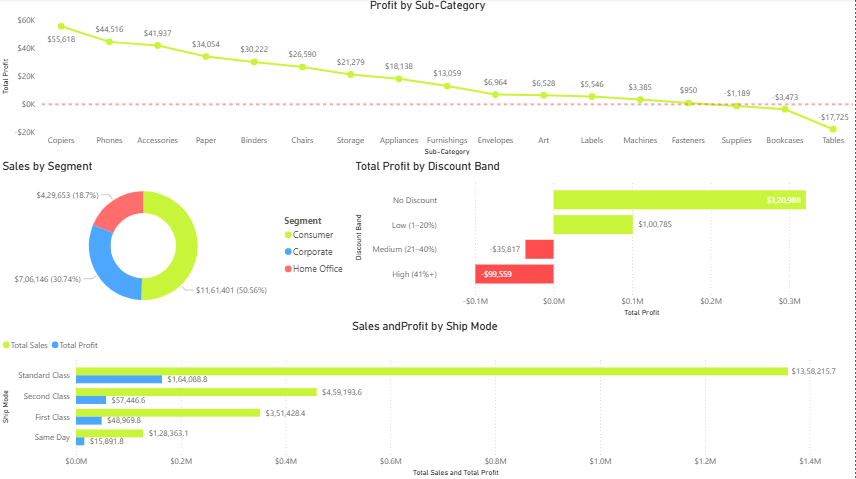

What the dashboard file says about the page in this screenshot:
{"tool":"powerbi","page":{"name":"Deep Dive","canvas":[1280,720],"ordinal":1},"visuals":[{"type":"lineChart","title":"Profit by Sub-Category","fields":{"Category":["superstore_cleaned.Sub-Category"],"Y":["superstore_cleaned.Total Profit"]},"box":[0,0,1280,240],"z":0},{"type":"donutChart","title":"Sales by Segment","fields":{"Category":["superstore_cleaned.Segment"],"Y":["superstore_cleaned.Total Sales"]},"box":[0,240,528,240],"z":1000},{"type":"clusteredBarChart","fields":{"Category":["superstore_cleaned.Discount Band"],"Y":["superstore_cleaned.Total Profit"]},"box":[528,240,752,240],"z":2000},{"type":"clusteredBarChart","title":"Sales and Profit by Ship Mode","fields":{"Category":["superstore_cleaned.Ship Mode"],"Y":["superstore_cleaned.Total Sales","superstore_cleaned.Total Profit"]},"box":[0,480,1272,240],"z":3000}]}

Visuals, with their boxes in screenshot pixels (x1, y1, x2, y2), scaled from the page's 1280x720 canvas onto the 856x479 screenshot:
"Profit by Sub-Category" lineChart: <box>0,0,855,160</box>
"Sales by Segment" donutChart: <box>0,160,353,319</box>
clusteredBarChart - superstore_cleaned.Discount Band x superstore_cleaned.Total Profit: <box>353,160,855,319</box>
"Sales and Profit by Ship Mode" clusteredBarChart: <box>0,319,851,478</box>
